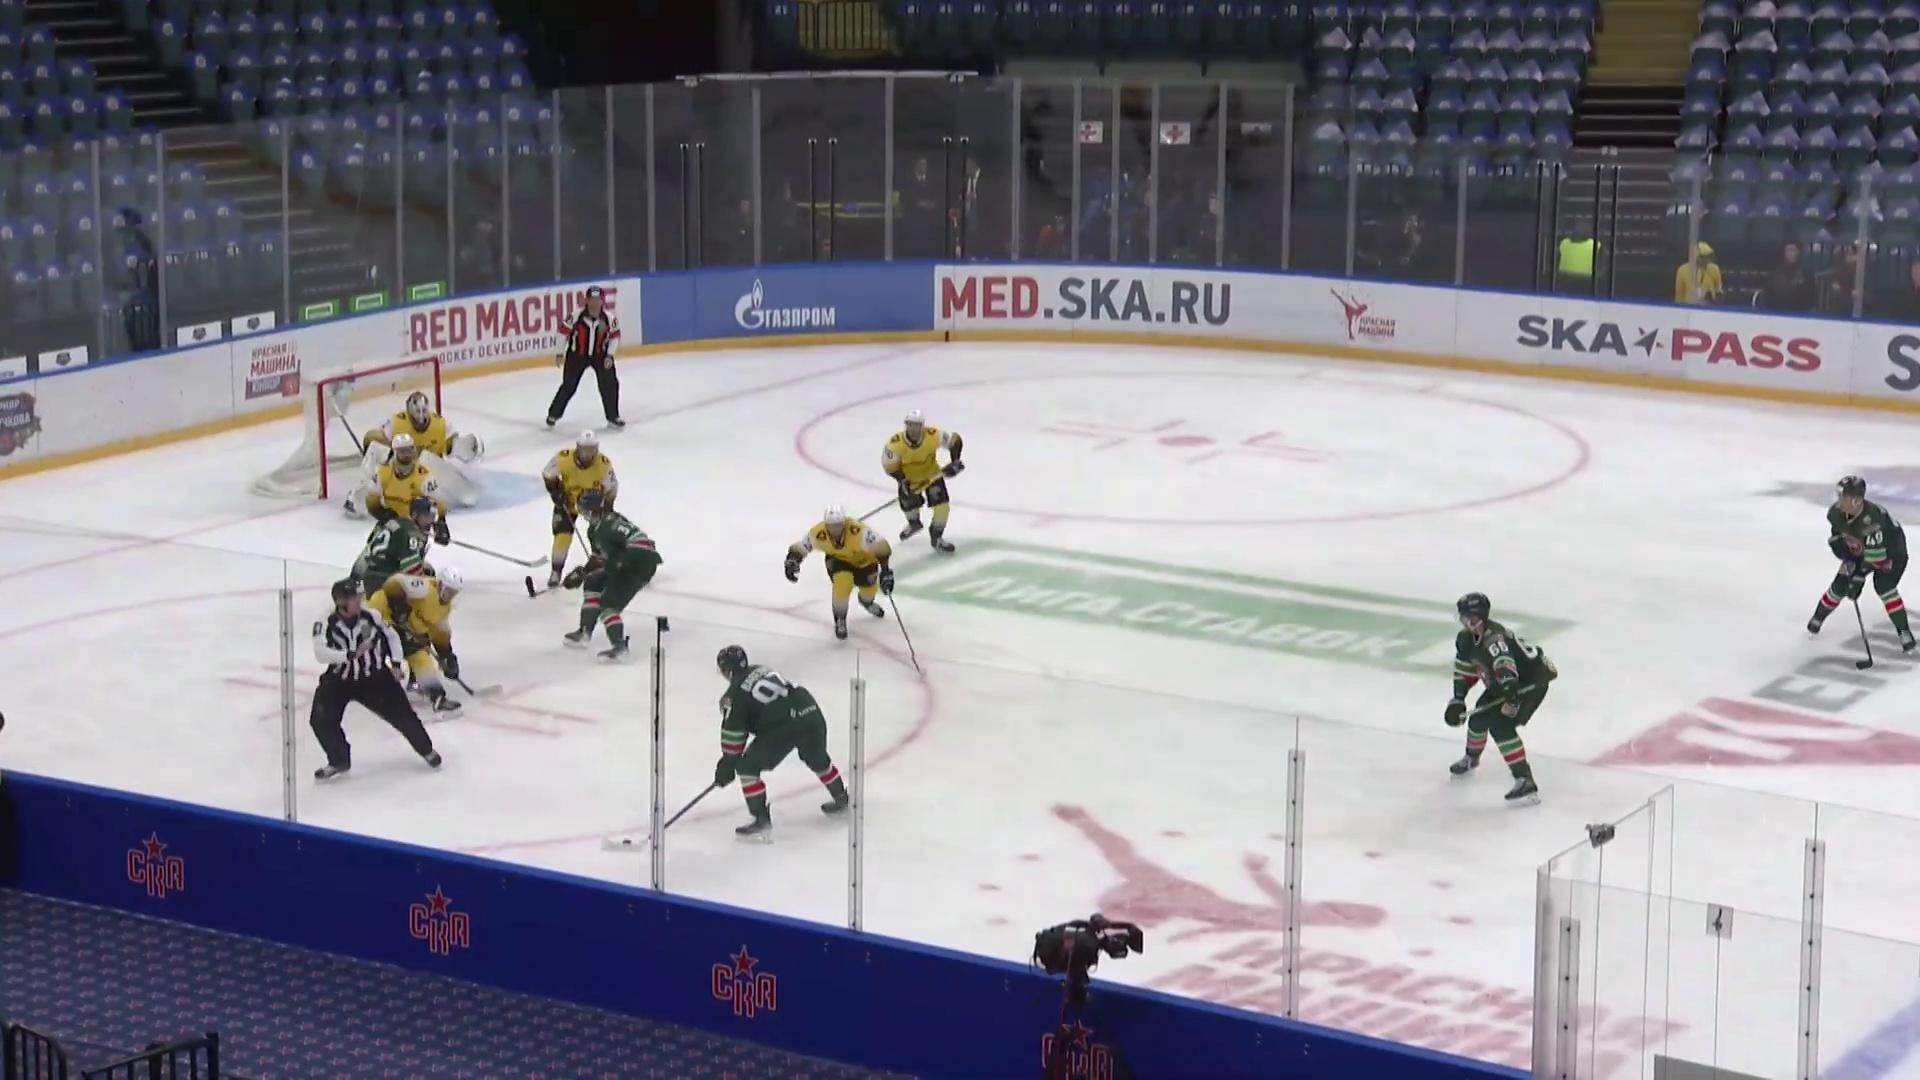ball: (622, 839, 633, 844)
